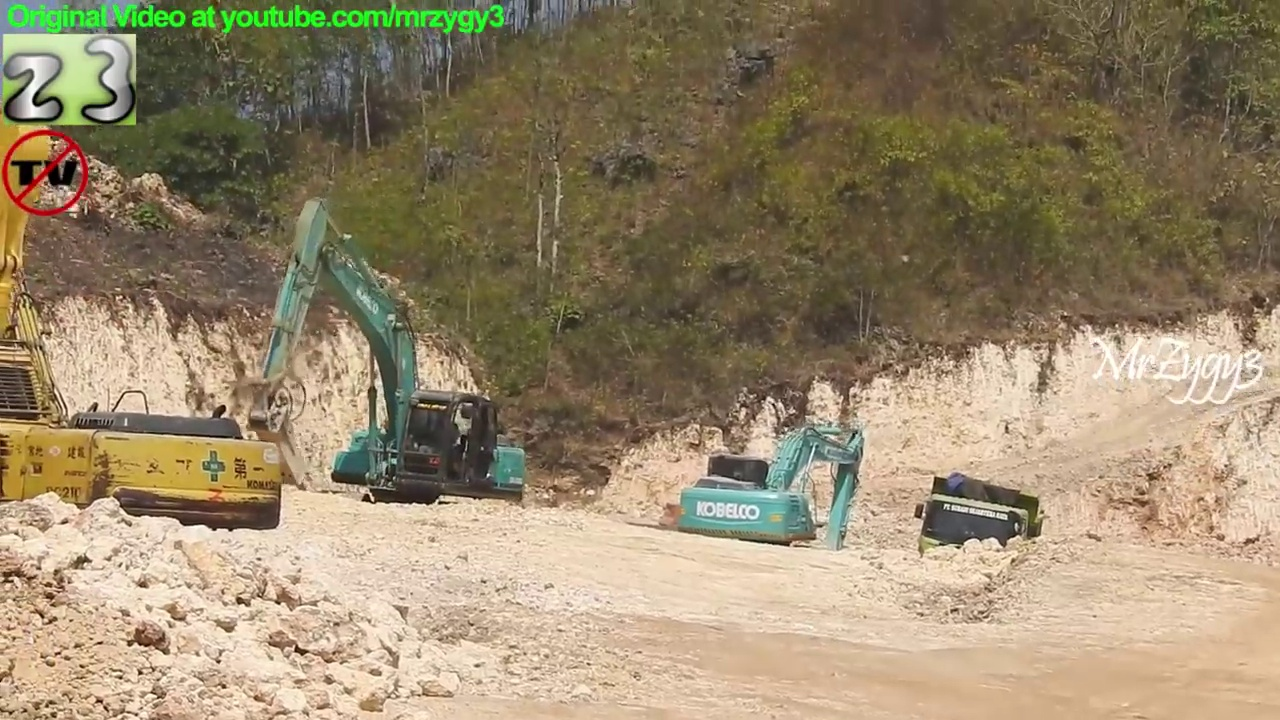excavator: (240, 193, 534, 530), (1, 229, 288, 541), (672, 416, 875, 579), (1, 62, 64, 334)
truck: (909, 467, 1053, 603)
